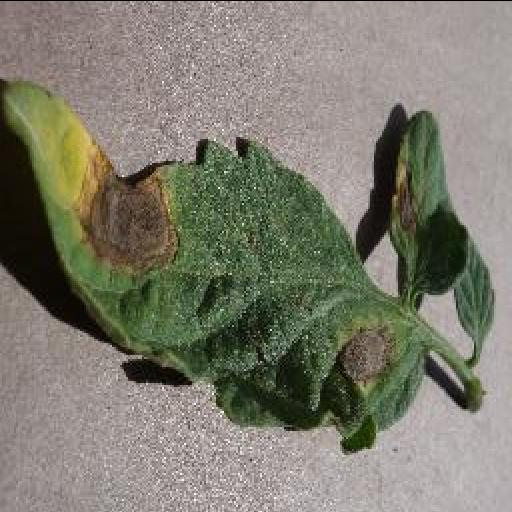disease_tomato: (0, 82, 430, 452)
